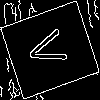V: (25, 25, 77, 72)
